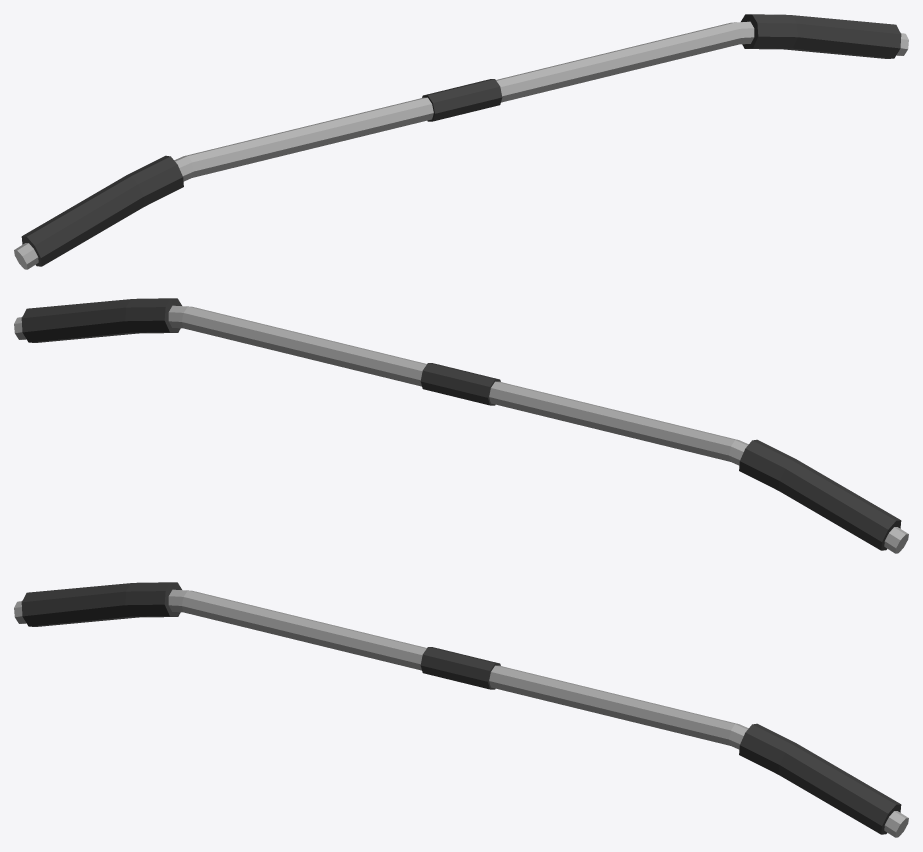
Rendered from PullDown_Ac_2.fbx.
The picture shows the model from 3 angles, top to bottom: view 1: azimuth 30°, elevation 25°; view 2: azimuth 150°, elevation 25°; view 3: azimuth 330°, elevation 25°; orthographic projection.
Visible parts, largest first — view 1: PullDown_Ac_2; view 2: PullDown_Ac_2; view 3: PullDown_Ac_2.
Part boxes in pixels (x1=…): PullDown_Ac_2: x1=14, y1=14, x2=908, y2=269; PullDown_Ac_2: x1=14, y1=298, x2=908, y2=553; PullDown_Ac_2: x1=14, y1=582, x2=908, y2=837.
Size of the model in its own units: 131 by 10.88 by 4.72.
